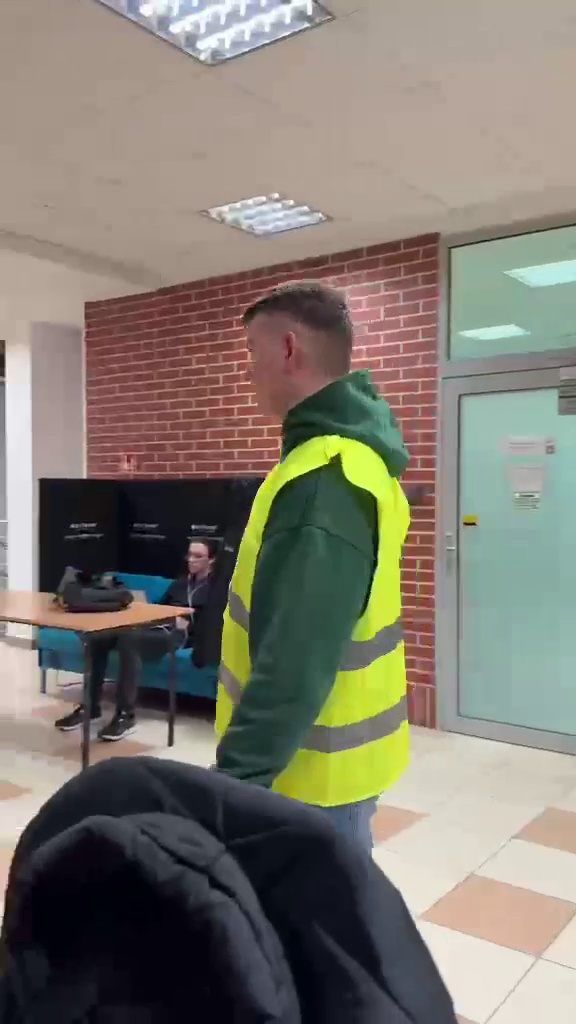no vest: (65, 529, 214, 741)
vest: (227, 288, 408, 845)
